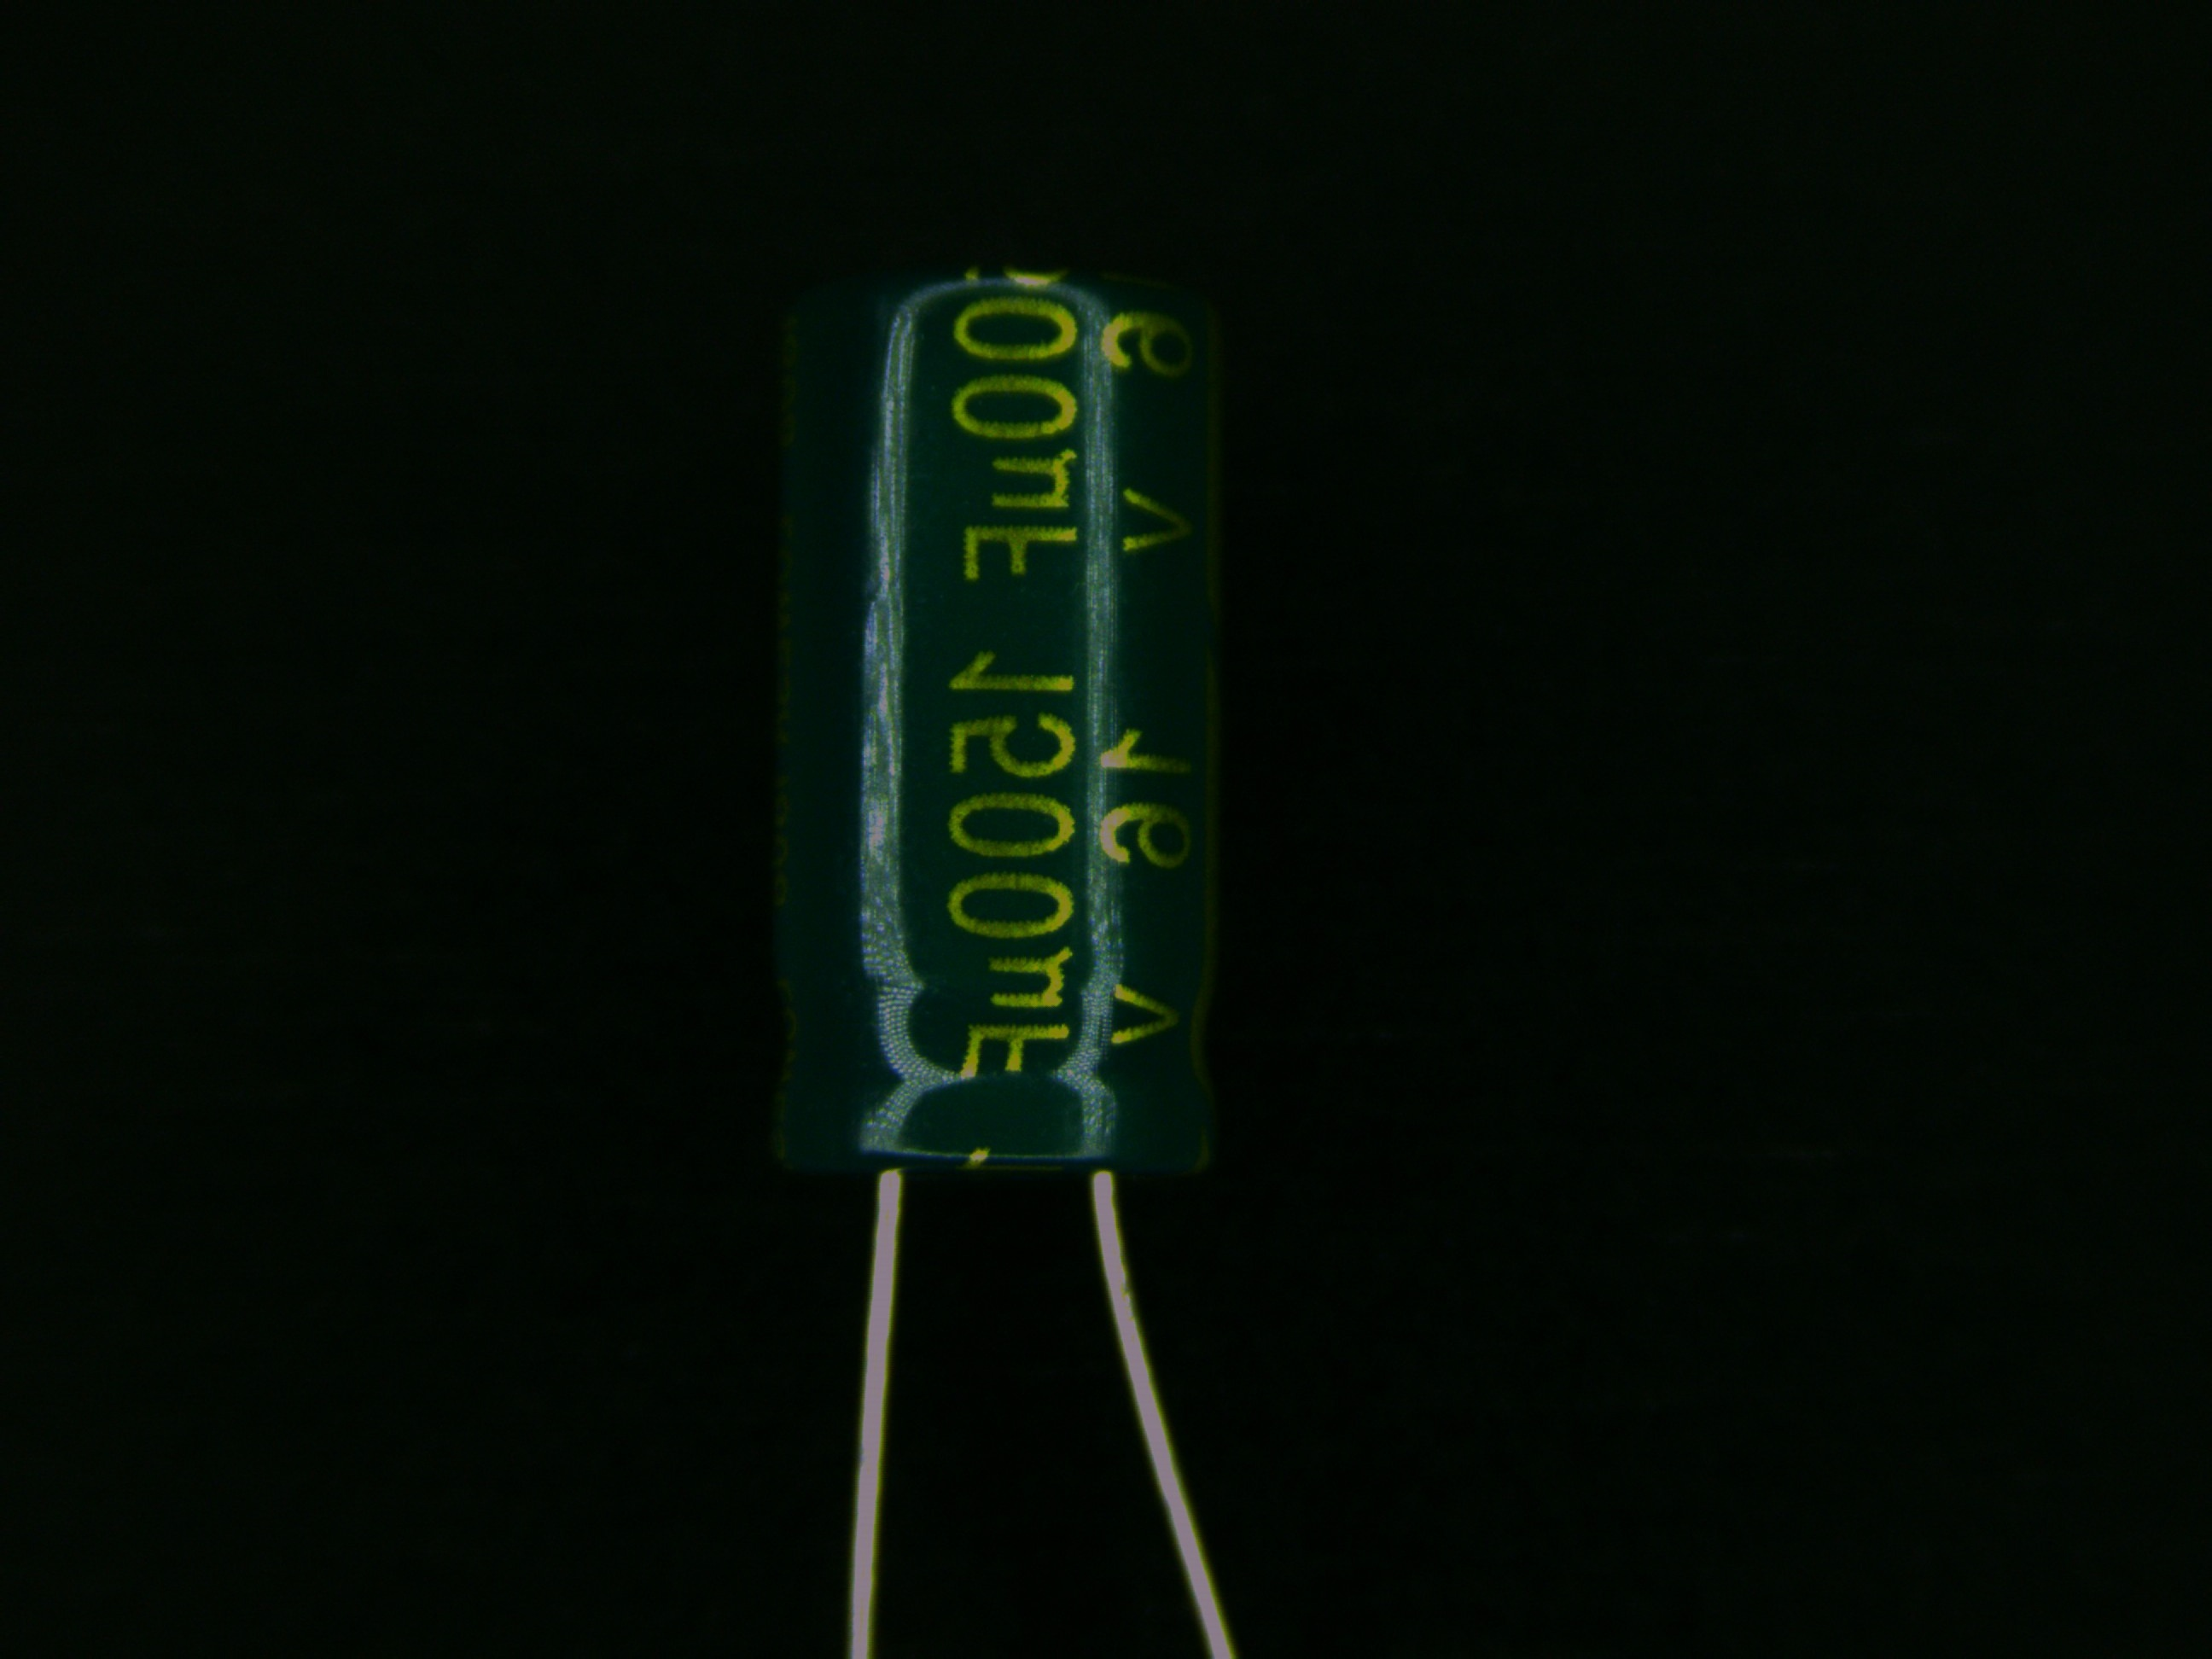c1: (759, 258, 1235, 1310)
